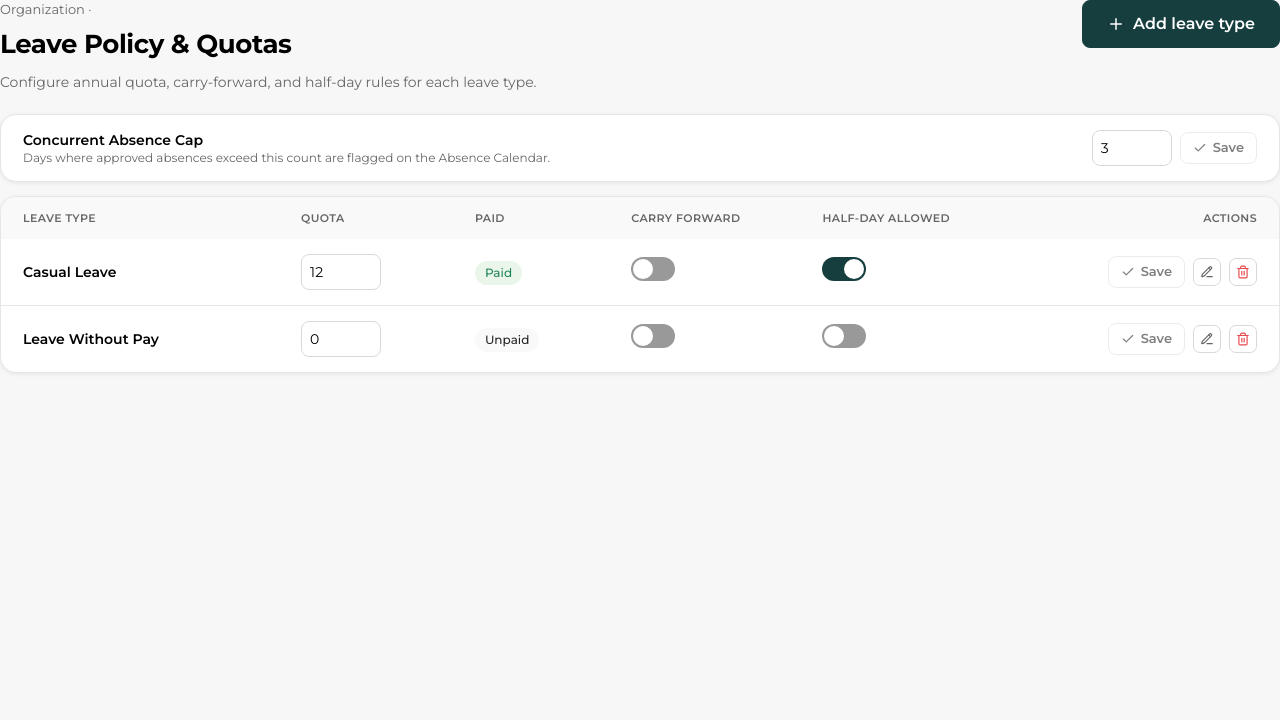
Test: deleting an unused type confirms, deletes, and toasts past tense
Expected: the text "Casual Leave" is shown, [23,263,116,281]
Click the button named "Delete Casual Leave" at (1243, 272), box [1229,258,1257,286]
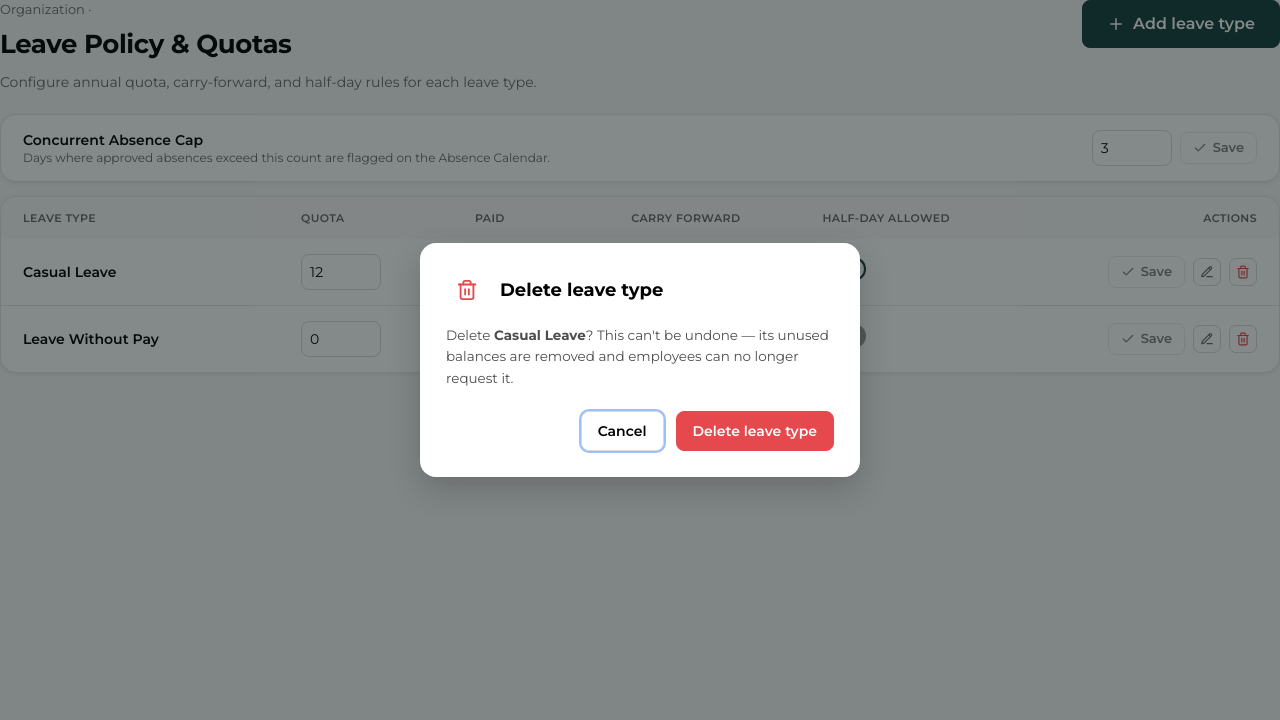
Expected: the text "Casual Leave" is shown, [494,327,586,343]
Click the button "Delete leave type" at (755, 431), box [676,411,834,451]
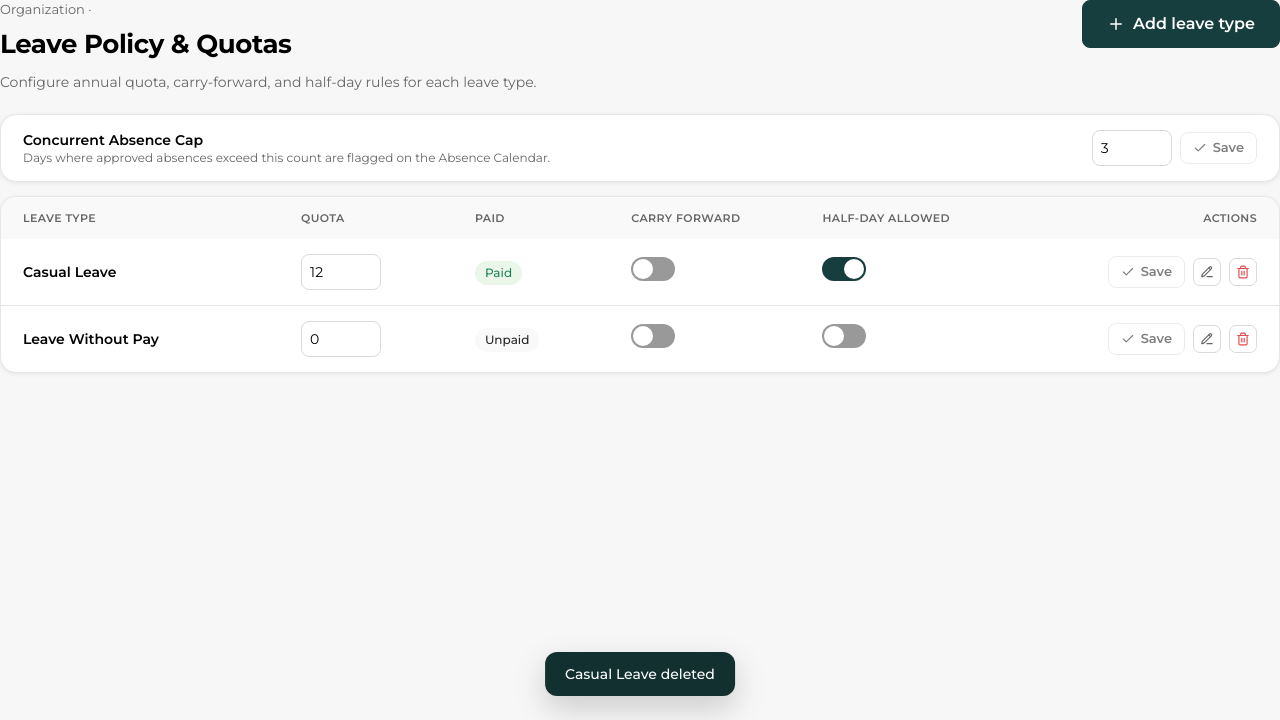
Expected: the text "Casual Leave deleted" is shown, [545,652,735,696]
